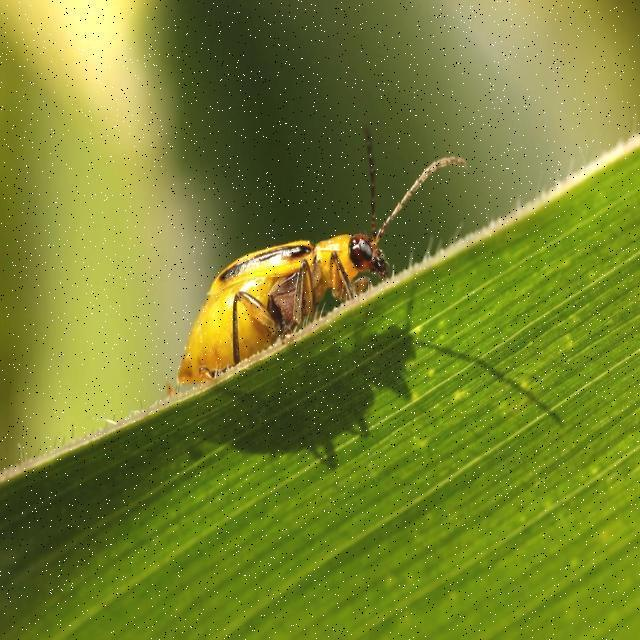trips: (178, 123, 464, 378)
